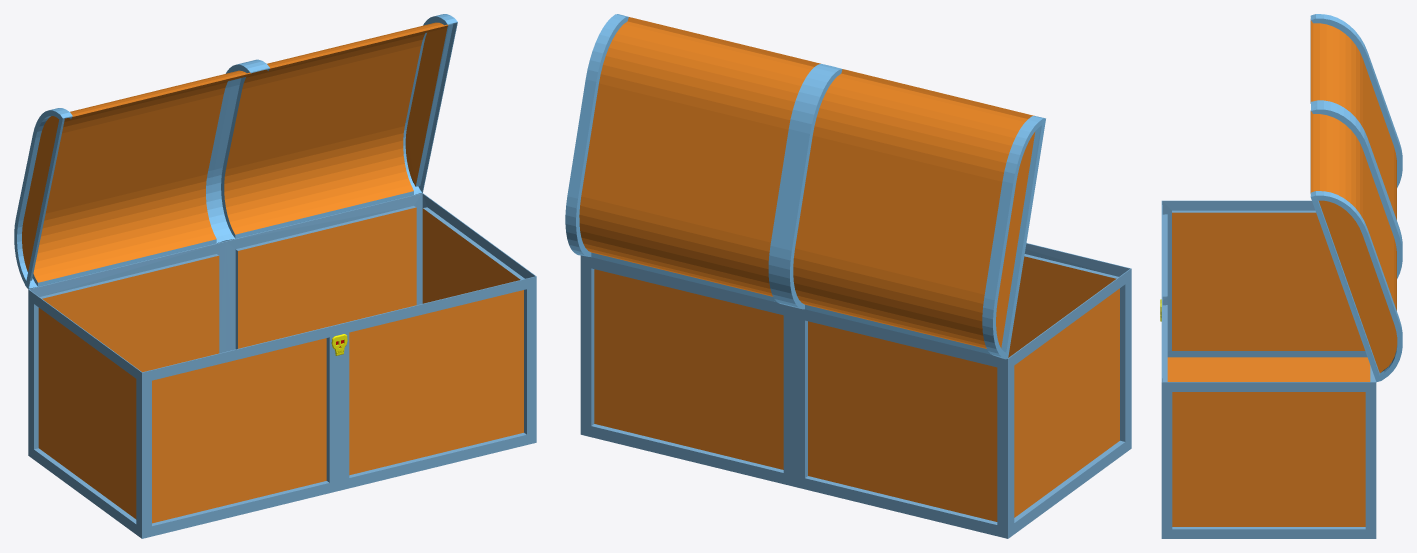
File: BauSemTransparencia.fbx
The picture shows the model from 3 angles, left to right: view 1: azimuth 30°, elevation 25°; view 2: azimuth 150°, elevation 25°; view 3: azimuth 270°, elevation 25°; orthographic projection. The views are drawn at different scales.
Parts seen in each view (by area): view 1: Cube, Cube.001; view 2: Cube.001, Cube; view 3: Cube, Cube.001.
Boxes of the visible parts, left/top/right/bottom form: Cube: left=28, top=193, right=536, bottom=538; Cube.001: left=14, top=14, right=457, bottom=289; Cube.001: left=565, top=14, right=1045, bottom=359; Cube: left=580, top=243, right=1131, bottom=538; Cube: left=1160, top=200, right=1376, bottom=538; Cube.001: left=1310, top=14, right=1402, bottom=382.
Bounding box in the file's own units: 400 × 353 × 226.
Materials: 1 (1 with a texture image).
